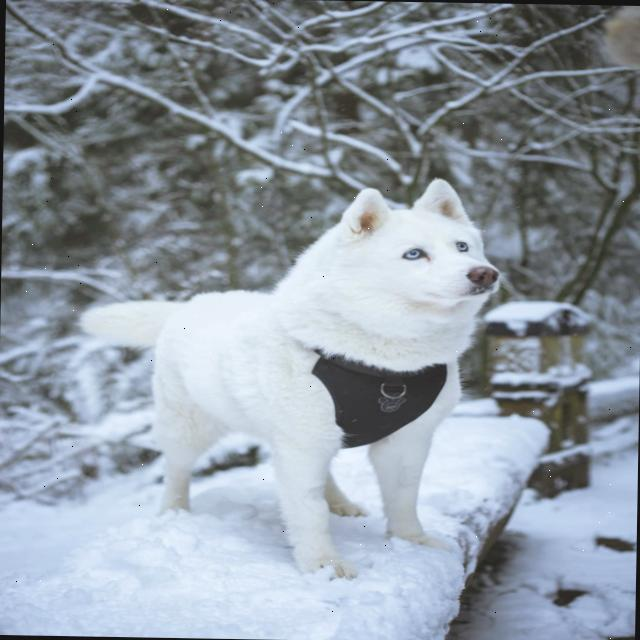siberian_husky_dog: (290, 172, 513, 336)
